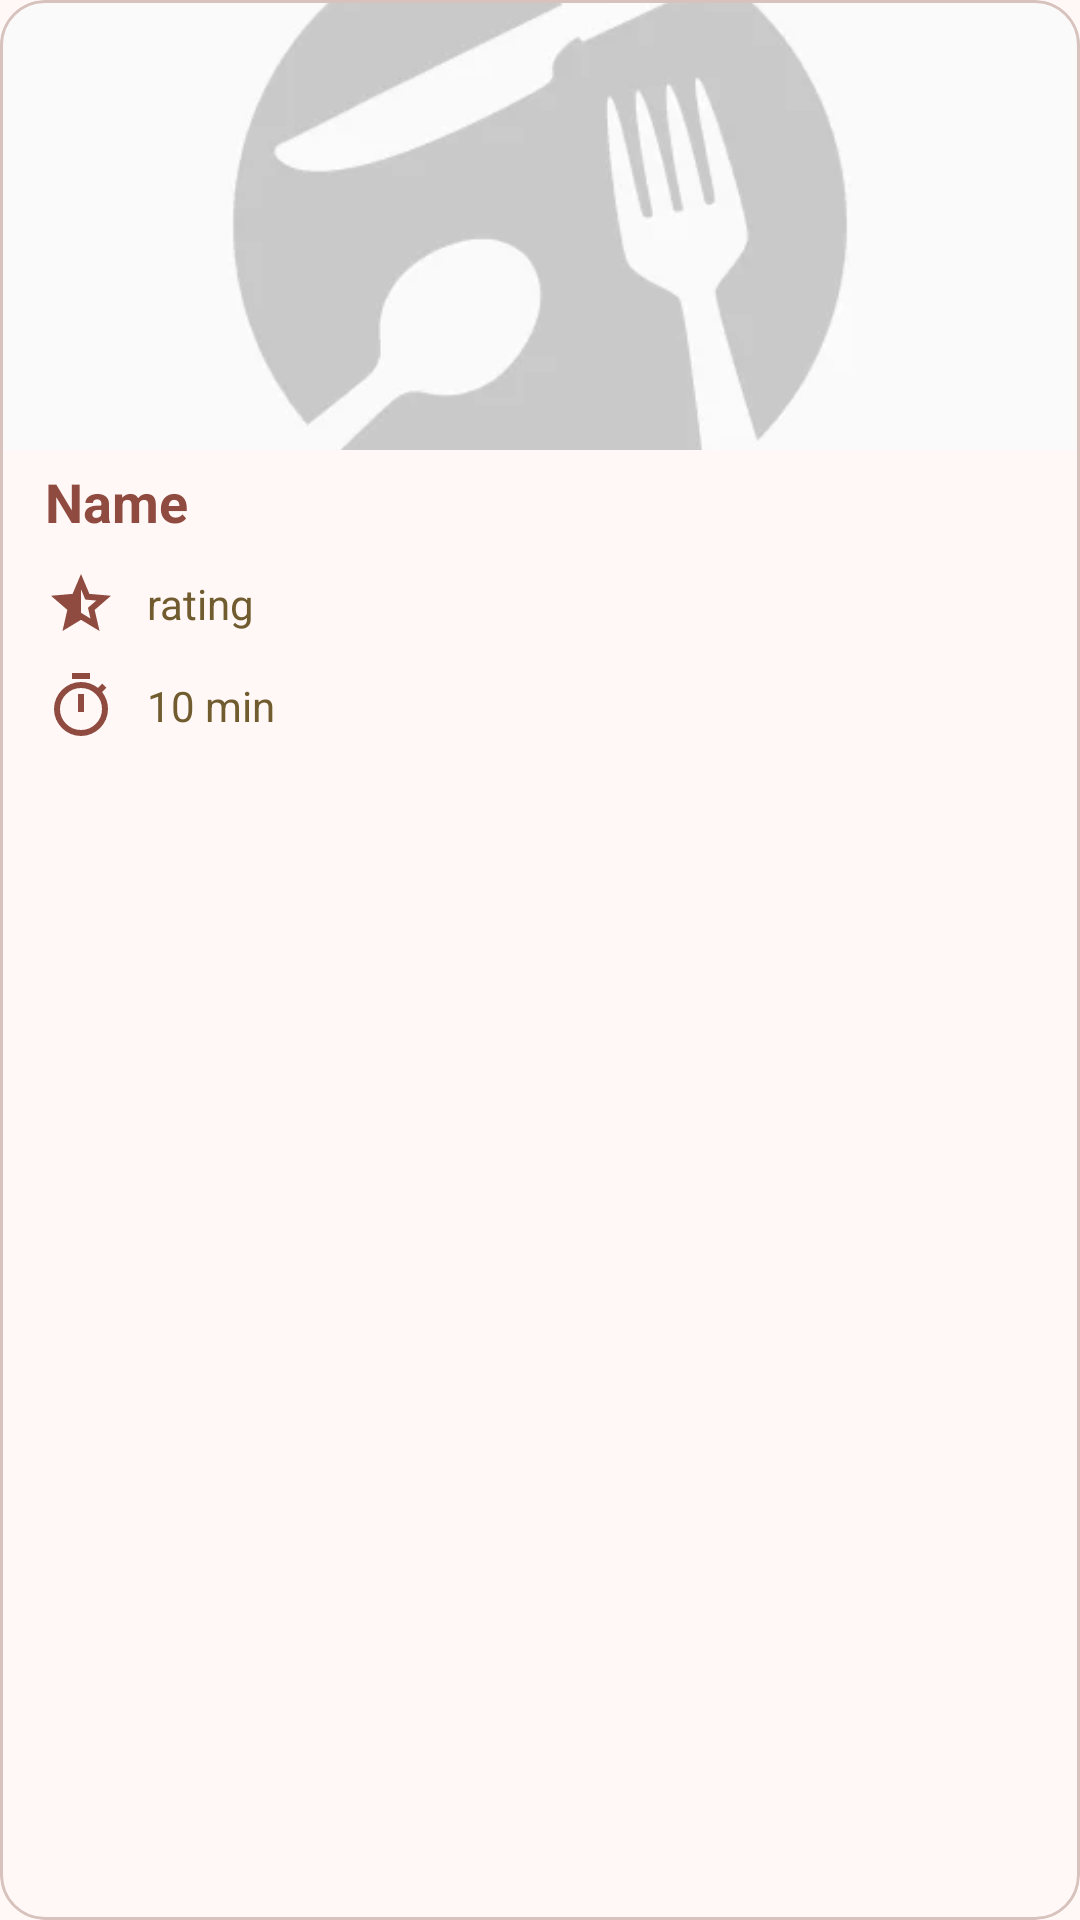

Named icons in this screenshot (1080w x 1920h) and their bounding boxes, bbox=(x1, y1, x2, y2):
time: bbox=(54, 673, 108, 736)
